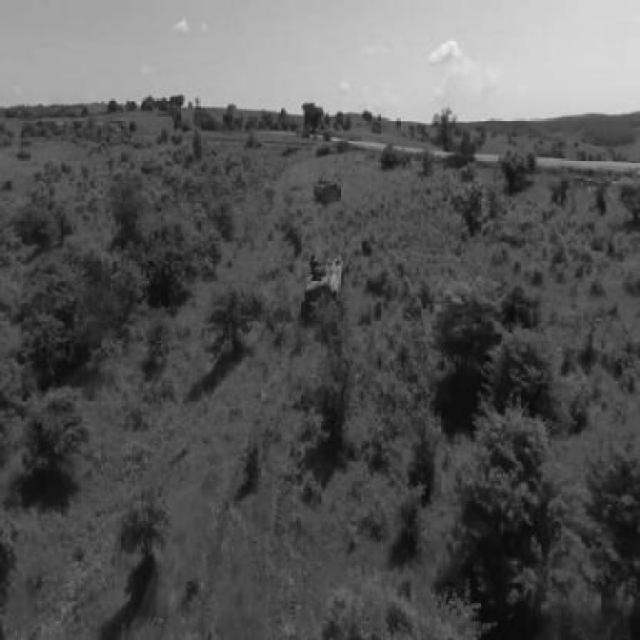Vehicle: (300, 252, 345, 321), (314, 176, 343, 203)
